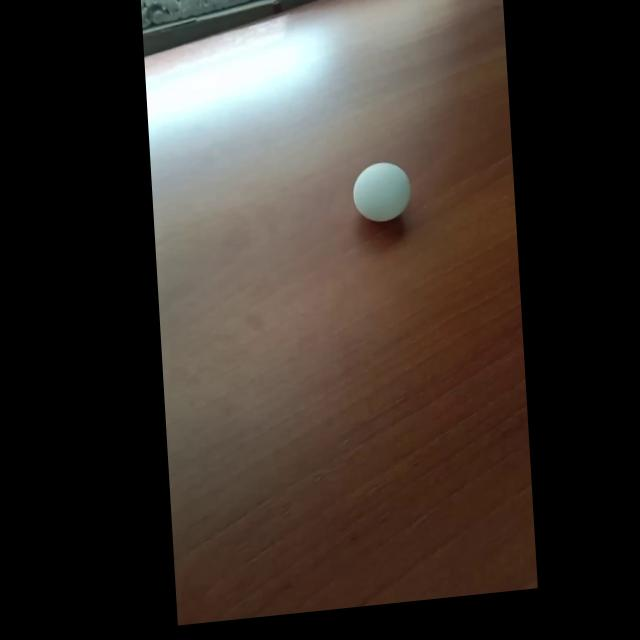white ball: (351, 159, 412, 225)
